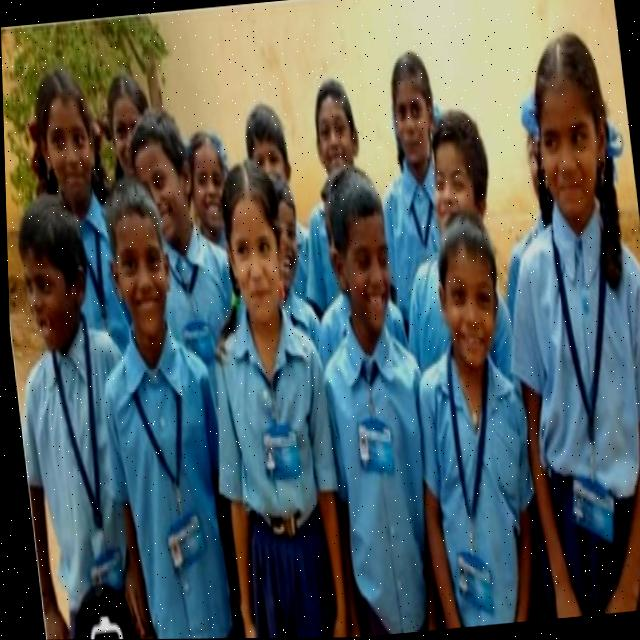id_card: (536, 216, 629, 548), (429, 349, 510, 612), (42, 338, 126, 585), (124, 364, 213, 573)
